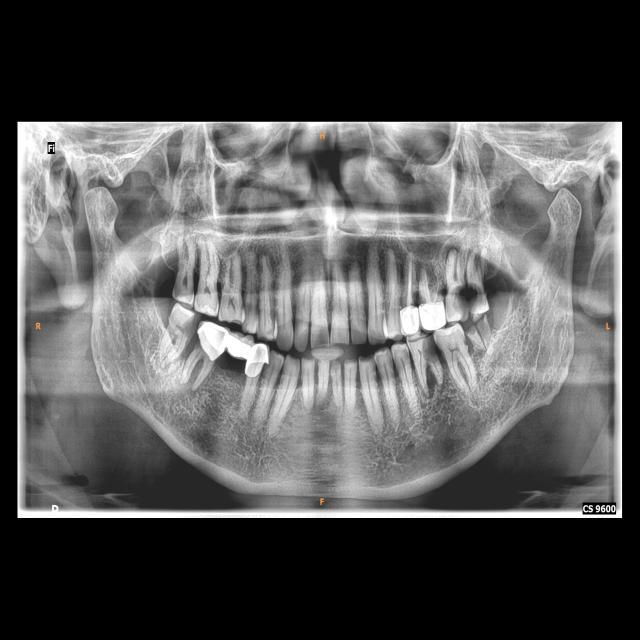kanal-tedavisi: (415, 265, 443, 306), (404, 248, 418, 306)
kaplama: (194, 319, 228, 360), (420, 298, 450, 332), (248, 338, 268, 384), (400, 303, 422, 335)
kirik: (450, 262, 488, 328), (410, 334, 444, 390), (164, 304, 200, 346)
kopru: (215, 324, 261, 366)
